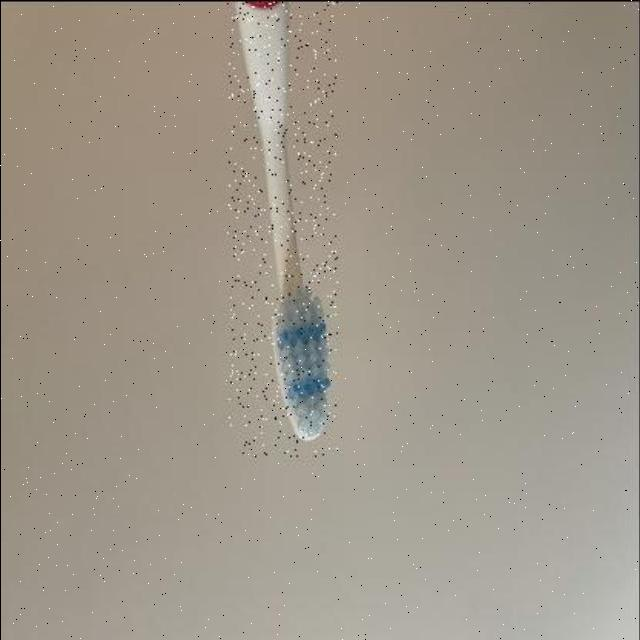toothbrush: (229, 1, 339, 456)
